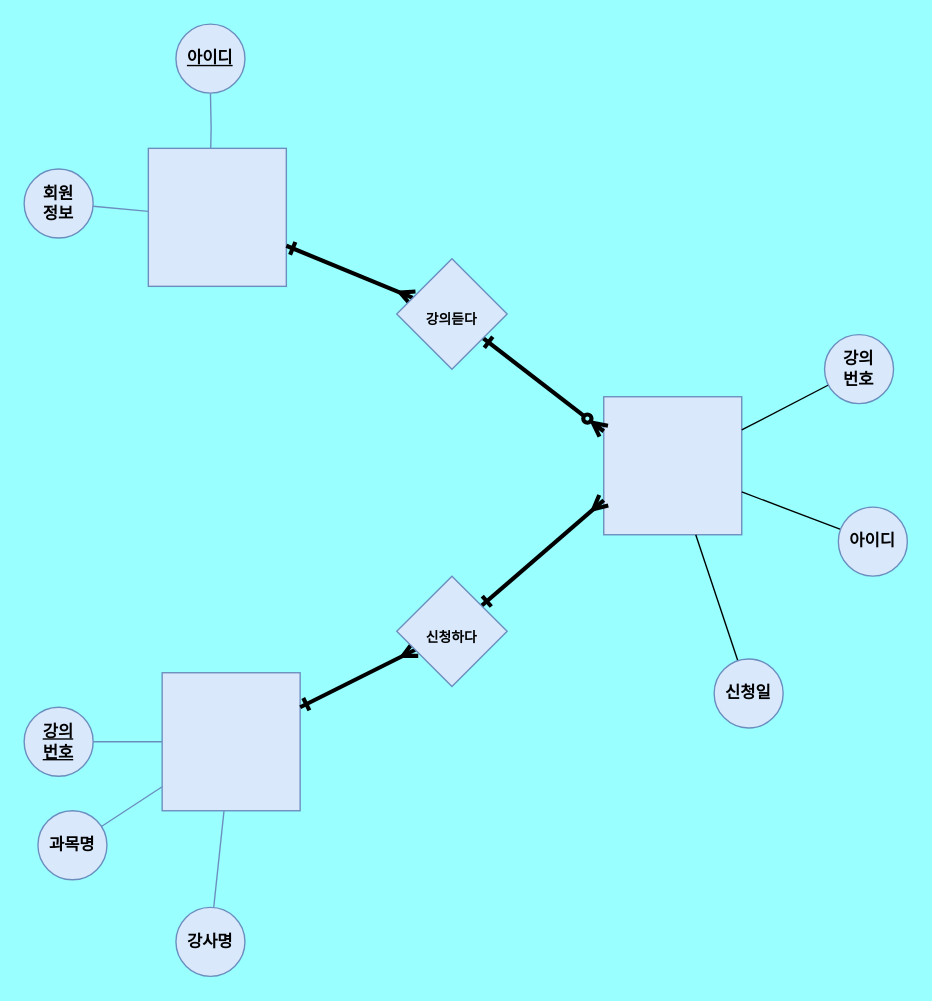
This 932x1001 diagram has some shape labels left out. The centre of each missing label's shape, as x and y in pixels:
"강의" goes at (x=230, y=741).
"수강신청" goes at (x=672, y=465).
"회원" goes at (x=216, y=216).
